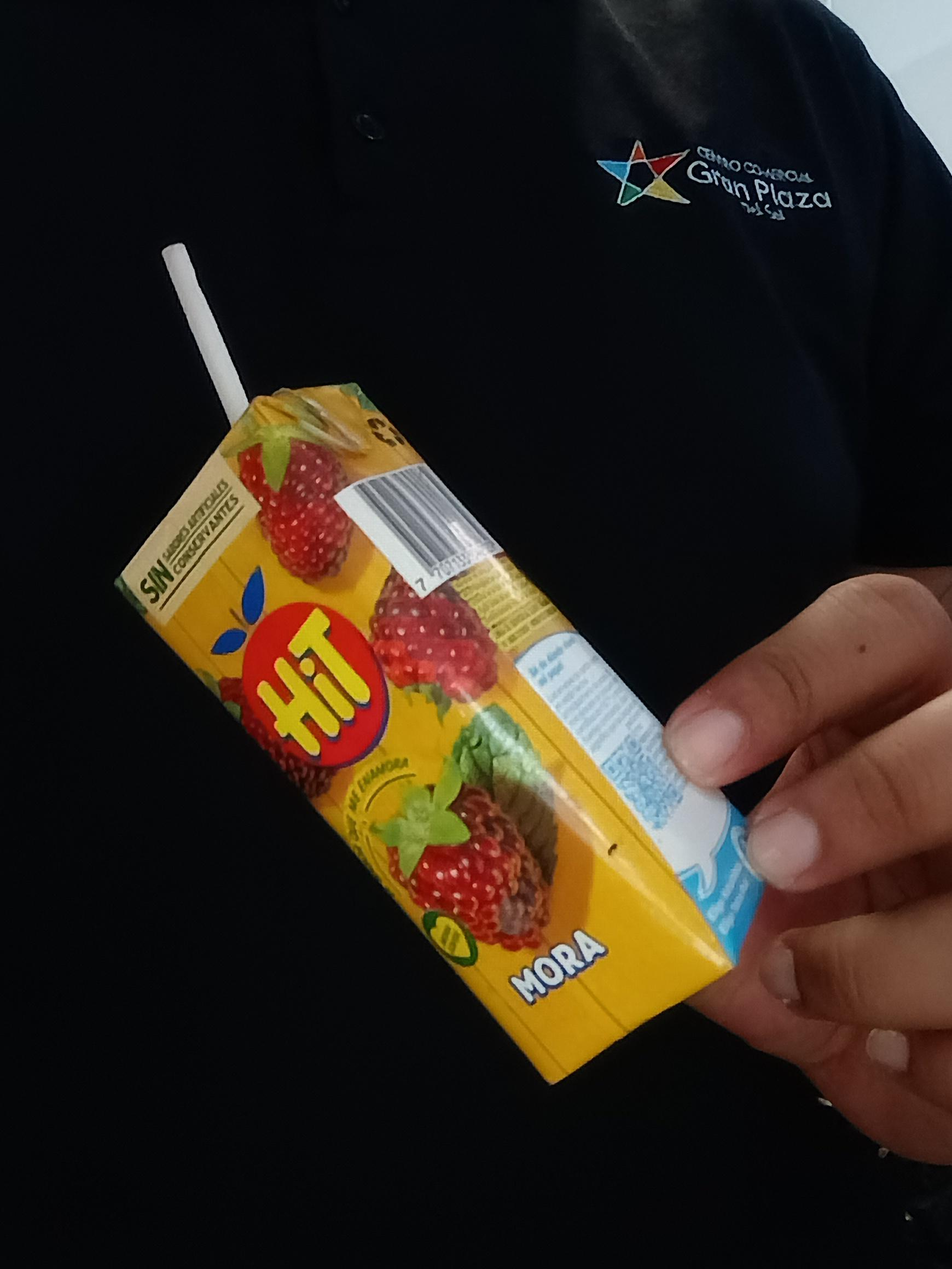Carton: (117, 379, 790, 1088)
